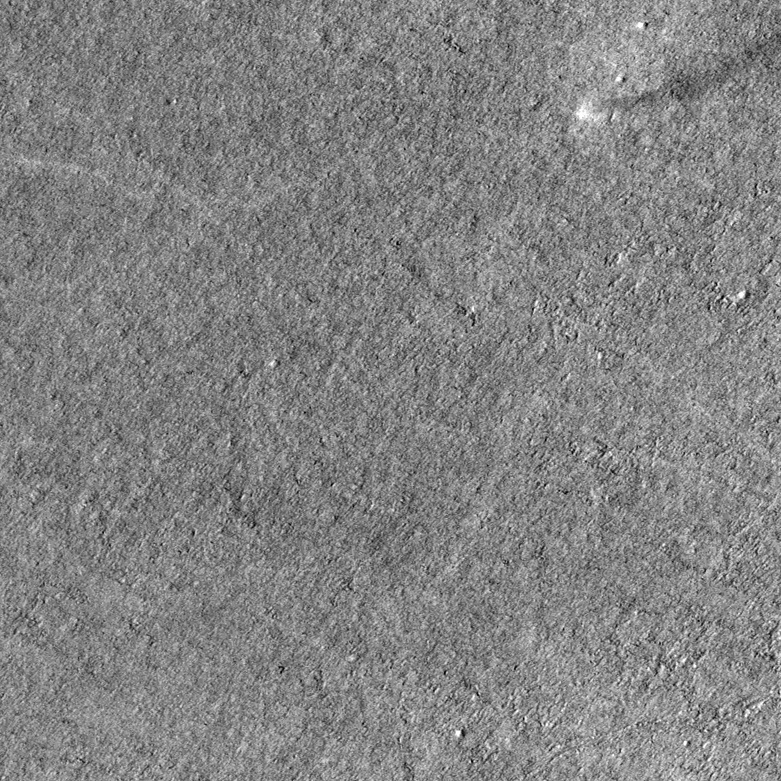dust_devil: (571, 27, 781, 131)
